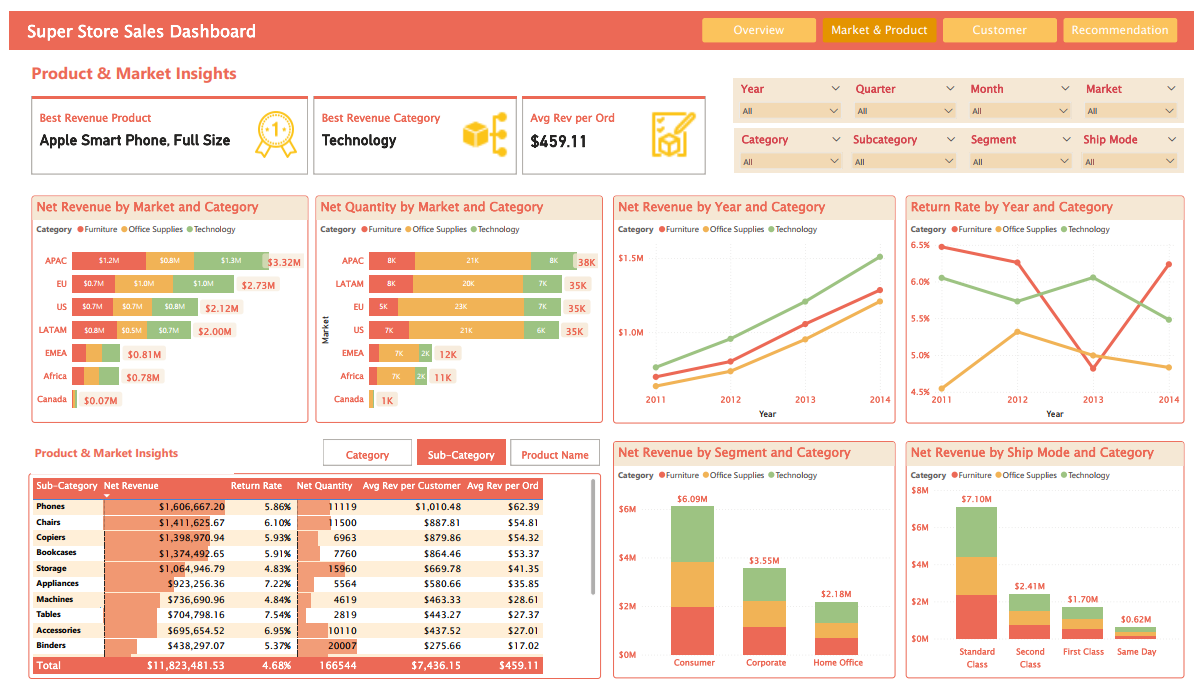

What the dashboard file says about the page in this screenshot:
{"tool":"powerbi","page":{"name":"Market & Product","canvas":[1920,1080],"ordinal":1},"visuals":[{"type":"group","id":"g1","title":"Group 1","box":[0,0,1921.4,69.6],"z":0},{"type":"shape","box":[0,0,1921.4,62.5],"z":0,"group":"g1"},{"type":"slicer","fields":{"Values":["Product.Category"]},"box":[1173.6,188.8,186.4,72.1],"z":1000},{"type":"textbox","box":[24.8,7.5,464.6,62.1],"z":2000,"group":"g1"},{"type":"slicer","fields":{"Values":["Orders.Market"]},"box":[1731.9,106.8,171.4,72.1],"z":2000},{"type":"pivotTable","fields":{"Rows":["Product.Sub-Category"],"Values":["_Measure.Net Revenue","_Measure.Return Rate","_Measure.Net Quantity","_Measure.Avg Rev per Customer","_Measure.Avg Rev per Ord"]},"box":[32.3,747.9,926.8,333],"z":3000},{"type":"pageNavigator","box":[1123.1,9.9,772.7,39.8],"z":4000,"group":"g1"},{"type":"slicer","fields":{"Values":["Product.Sub-Category"]},"box":[1355,188.8,191.3,72.1],"z":4000},{"type":"slicer","title":"fyggb","fields":{"Values":["DimDate.Time Hierarchy.Year"]},"box":[1172.8,106.8,186,72.1],"z":5000,"group":"g2"},{"type":"advancedSlicerVisual","fields":{"Values":["Parameter.Parameter"]},"box":[504.4,688.3,457.2,52.2],"z":5000},{"type":"barChart","fields":{"Category":["Orders.Location Hierarchy.Market","Orders.Location Hierarchy.New Region","Orders.Location Hierarchy.Country"],"Series":["Product.Category"],"Y":["_Measure.Net Revenue"]},"box":[37.3,298.2,447.2,367.7],"z":6000},{"type":"slicer","fields":{"Values":["DimDate.Time Hierarchy.YearQuarter"]},"box":[1358.8,106.8,186,72.1],"z":7000,"group":"g2"},{"type":"lineChart","fields":{"Y":["_Measure.Net Revenue"],"Category":["DimDate.Time Hierarchy.Year","DimDate.Time Hierarchy.Month of Year"],"Series":["Product.Category"]},"box":[979.3,297.5,456.4,369.8],"z":7000},{"type":"lineChart","fields":{"Y":["_Overview Measure.Return Rate"],"Category":["DimDate.Time Hierarchy.Year","DimDate.Time Hierarchy.Month of Year"],"Series":["Product.Category"]},"box":[1453,297.5,450.6,369.8],"z":8000},{"type":"slicer","fields":{"Values":["DimDate.Month of Year"]},"box":[1544.7,106.8,186,72.1],"z":9000,"group":"g2"},{"type":"barChart","fields":{"Category":["Orders.Location Hierarchy.Market","Orders.Location Hierarchy.New Region","Orders.Location Hierarchy.Country"],"Series":["Product.Category"],"Y":["_Measure.Net Quantity"]},"box":[496.9,298.2,464.6,367.7],"z":9000},{"type":"textbox","box":[32.3,74.5,414.9,62.1],"z":10000},{"type":"cardVisual","fields":{"Data":["_Product Measure.Best Revenue Product"]},"box":[32.3,131.7,457.2,136.7],"z":11000},{"type":"group","id":"g2","title":"Group 2","box":[1172.8,106.8,559.1,72.1],"z":12000},{"type":"cardVisual","fields":{"Data":["_Product Measure.Best Revenue Category"]},"box":[489.5,131.7,337.9,136.7],"z":13000},{"type":"cardVisual","fields":{"Data":["_Overview Measure.Avg Rev per Ord"]},"box":[827.4,131.7,305.6,136.7],"z":14000},{"type":"columnChart","fields":{"Y":["_Overview Measure.Net Revenue"],"Category":["Orders.Segment"],"Series":["Product.Category"]},"box":[979.3,696.2,456.4,384.2],"z":15000},{"type":"columnChart","fields":{"Y":["_Overview Measure.Net Revenue"],"Series":["Product.Category"],"Category":["Orders.Ship Mode"]},"box":[1453,696.2,450.6,384.2],"z":16000},{"type":"slicer","fields":{"Values":["Orders.Segment"]},"box":[1546.3,188.8,186.4,72.1],"z":17000},{"type":"slicer","fields":{"Values":["Orders.Ship Mode"]},"box":[1727.7,188.8,176.4,72.1],"z":18000},{"type":"textbox","box":[37.3,695.7,328,52.2],"z":19000}]}

Visuals, with their boxes in screenshot pixels (x1, y1, x2, y2), scaled from the page's 1920x1080 canvas onto the 1194x682 screenshot:
"Group 1" group: bbox(0, 0, 1193, 44)
shape: bbox(0, 0, 1193, 39)
slicer - Product.Category: bbox(730, 119, 846, 165)
textbox: bbox(15, 5, 304, 44)
slicer - Orders.Market: bbox(1077, 67, 1184, 113)
pivotTable - Product.Sub-Category x _Measure.Net Revenue: bbox(20, 472, 596, 681)
pageNavigator: bbox(698, 6, 1179, 31)
slicer - Product.Sub-Category: bbox(843, 119, 962, 165)
"fyggb" slicer: bbox(729, 67, 845, 113)
advancedSlicerVisual - Parameter.Parameter: bbox(314, 435, 598, 468)
barChart - Orders.Location Hierarchy.Market x Orders.Location Hierarchy.New Region: bbox(23, 188, 301, 421)
slicer - DimDate.Time Hierarchy.YearQuarter: bbox(845, 67, 961, 113)
lineChart - _Measure.Net Revenue x DimDate.Time Hierarchy.Year: bbox(609, 188, 893, 421)
lineChart - _Overview Measure.Return Rate x DimDate.Time Hierarchy.Year: bbox(904, 188, 1184, 421)
slicer - DimDate.Month of Year: bbox(961, 67, 1076, 113)
barChart - Orders.Location Hierarchy.Market x Orders.Location Hierarchy.New Region: bbox(309, 188, 598, 421)
textbox: bbox(20, 47, 278, 86)
cardVisual - _Product Measure.Best Revenue Product: bbox(20, 83, 304, 169)
"Group 2" group: bbox(729, 67, 1077, 113)
cardVisual - _Product Measure.Best Revenue Category: bbox(304, 83, 515, 169)
cardVisual - _Overview Measure.Avg Rev per Ord: bbox(515, 83, 705, 169)
columnChart - _Overview Measure.Net Revenue x Orders.Segment: bbox(609, 440, 893, 681)
columnChart - _Overview Measure.Net Revenue x Product.Category: bbox(904, 440, 1184, 681)
slicer - Orders.Segment: bbox(962, 119, 1078, 165)
slicer - Orders.Ship Mode: bbox(1074, 119, 1184, 165)
textbox: bbox(23, 439, 227, 472)
